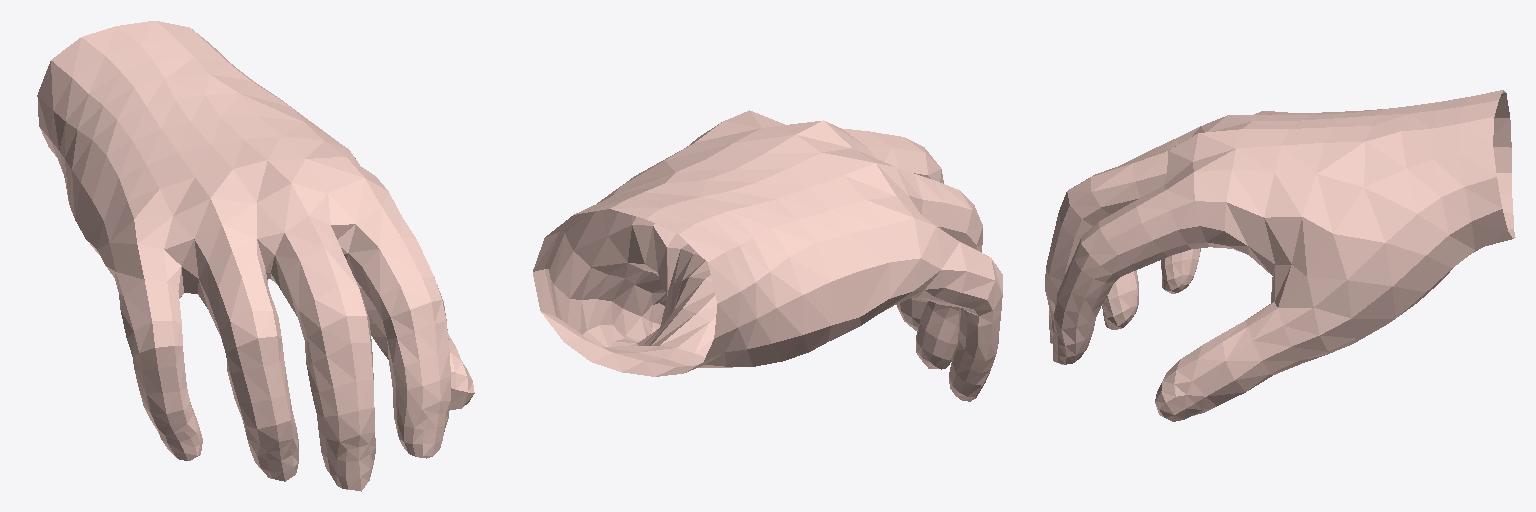
URDF robot description (mano_urdf):
?<?xml version="1.0" encoding="utf-8"?>
<robot name="mano_urdf">
  <material name="Default">
    <color rgba="0.9725 0.8392 0.8078 0" />
  </material>
  <link name="m_avg_R_Wrist">
    <visual>
      <geometry>
        <mesh filename="package://meshes/m_avg_R_Wrist.stl" scale="1 1 1" />
      </geometry>
      <material name="Default">
        <color rgba="0.9725 0.8392 0.8078 0" />
      </material>
    </visual>
    <collision>
      <geometry>
        <mesh filename="package://meshes/m_avg_R_Wrist.stl" scale="1 1 1" />
      </geometry>
    </collision>
  </link>
  <link name="m_avg_rindex0">
    <visual>
      <geometry>
        <mesh filename="package://meshes/m_avg_rindex0.stl" scale="1 1 1" />
      </geometry>
      <material name="Default">
        <color rgba="0.9725 0.8392 0.8078 0" />
      </material>
    </visual>
    <collision>
      <geometry>
        <mesh filename="package://meshes/m_avg_rindex0.stl" scale="1 1 1" />
      </geometry>
    </collision>
  </link>
  <link name="m_avg_rindex1">
    <visual>
      <geometry>
        <mesh filename="package://meshes/m_avg_rindex1.stl" scale="1 1 1" />
      </geometry>
      <material name="Default">
        <color rgba="0.9725 0.8392 0.8078 0" />
      </material>
    </visual>
    <collision>
      <geometry>
        <mesh filename="package://meshes/m_avg_rindex1.stl" scale="1 1 1" />
      </geometry>
    </collision>
  </link>
  <link name="m_avg_rindex2">
    <visual>
      <geometry>
        <mesh filename="package://meshes/m_avg_rindex2.stl" scale="1 1 1" />
      </geometry>
      <material name="Default">
        <color rgba="0.9725 0.8392 0.8078 0" />
      </material>
    </visual>
    <collision>
      <geometry>
        <mesh filename="package://meshes/m_avg_rindex2.stl" scale="1 1 1" />
      </geometry>
    </collision>
  </link>
  <link name="m_avg_rmiddle0">
    <visual>
      <geometry>
        <mesh filename="package://meshes/m_avg_rmiddle0.stl" scale="1 1 1" />
      </geometry>
      <material name="Default">
        <color rgba="0.9725 0.8392 0.8078 0" />
      </material>
    </visual>
    <collision>
      <geometry>
        <mesh filename="package://meshes/m_avg_rmiddle0.stl" scale="1 1 1" />
      </geometry>
    </collision>
  </link>
  <link name="m_avg_rmiddle1">
    <visual>
      <geometry>
        <mesh filename="package://meshes/m_avg_rmiddle1.stl" scale="1 1 1" />
      </geometry>
      <material name="Default">
        <color rgba="0.9725 0.8392 0.8078 0" />
      </material>
    </visual>
    <collision>
      <geometry>
        <mesh filename="package://meshes/m_avg_rmiddle1.stl" scale="1 1 1" />
      </geometry>
    </collision>
  </link>
  <link name="m_avg_rmiddle2">
    <visual>
      <geometry>
        <mesh filename="package://meshes/m_avg_rmiddle2.stl" scale="1 1 1" />
      </geometry>
      <material name="Default">
        <color rgba="0.9725 0.8392 0.8078 0" />
      </material>
    </visual>
    <collision>
      <geometry>
        <mesh filename="package://meshes/m_avg_rmiddle2.stl" scale="1 1 1" />
      </geometry>
    </collision>
  </link>
  <link name="m_avg_rpinky0">
    <visual>
      <geometry>
        <mesh filename="package://meshes/m_avg_rpinky0.stl" scale="1 1 1" />
      </geometry>
      <material name="Default">
        <color rgba="0.9725 0.8392 0.8078 0" />
      </material>
    </visual>
    <collision>
      <geometry>
        <mesh filename="package://meshes/m_avg_rpinky0.stl" scale="1 1 1" />
      </geometry>
    </collision>
  </link>
  <link name="m_avg_rpinky1">
    <visual>
      <geometry>
        <mesh filename="package://meshes/m_avg_rpinky1.stl" scale="1 1 1" />
      </geometry>
      <material name="Default">
        <color rgba="0.9725 0.8392 0.8078 0" />
      </material>
    </visual>
    <collision>
      <geometry>
        <mesh filename="package://meshes/m_avg_rpinky1.stl" scale="1 1 1" />
      </geometry>
    </collision>
  </link>
  <link name="m_avg_rpinky2">
    <visual>
      <geometry>
        <mesh filename="package://meshes/m_avg_rpinky2.stl" scale="1 1 1" />
      </geometry>
      <material name="Default">
        <color rgba="0.9725 0.8392 0.8078 0" />
      </material>
    </visual>
    <collision>
      <geometry>
        <mesh filename="package://meshes/m_avg_rpinky2.stl" scale="1 1 1" />
      </geometry>
    </collision>
  </link>
  <link name="m_avg_rring0">
    <visual>
      <geometry>
        <mesh filename="package://meshes/m_avg_rring0.stl" scale="1 1 1" />
      </geometry>
      <material name="Default">
        <color rgba="0.9725 0.8392 0.8078 0" />
      </material>
    </visual>
    <collision>
      <geometry>
        <mesh filename="package://meshes/m_avg_rring0.stl" scale="1 1 1" />
      </geometry>
    </collision>
  </link>
  <link name="m_avg_rring1">
    <visual>
      <geometry>
        <mesh filename="package://meshes/m_avg_rring1.stl" scale="1 1 1" />
      </geometry>
      <material name="Default">
        <color rgba="0.9725 0.8392 0.8078 0" />
      </material>
    </visual>
    <collision>
      <geometry>
        <mesh filename="package://meshes/m_avg_rring1.stl" scale="1 1 1" />
      </geometry>
    </collision>
  </link>
  <link name="m_avg_rring2">
    <visual>
      <geometry>
        <mesh filename="package://meshes/m_avg_rring2.stl" scale="1 1 1" />
      </geometry>
      <material name="Default">
        <color rgba="0.9725 0.8392 0.8078 0" />
      </material>
    </visual>
    <collision>
      <geometry>
        <mesh filename="package://meshes/m_avg_rring2.stl" scale="1 1 1" />
      </geometry>
    </collision>
  </link>
  <link name="m_avg_rthumb0">
    <visual>
      <geometry>
        <mesh filename="package://meshes/m_avg_rthumb0.stl" scale="1 1 1" />
      </geometry>
      <material name="Default">
        <color rgba="0.9725 0.8392 0.8078 0" />
      </material>
    </visual>
    <collision>
      <geometry>
        <mesh filename="package://meshes/m_avg_rthumb0.stl" scale="1 1 1" />
      </geometry>
    </collision>
  </link>
  <link name="m_avg_rthumb1">
    <visual>
      <geometry>
        <mesh filename="package://meshes/m_avg_rthumb1.stl" scale="1 1 1" />
      </geometry>
      <material name="Default">
        <color rgba="0.9725 0.8392 0.8078 0" />
      </material>
    </visual>
    <collision>
      <geometry>
        <mesh filename="package://meshes/m_avg_rthumb1.stl" scale="1 1 1" />
      </geometry>
    </collision>
  </link>
  <link name="m_avg_rthumb2">
    <visual>
      <geometry>
        <mesh filename="package://meshes/m_avg_rthumb2.stl" scale="1 1 1" />
      </geometry>
      <material name="Default">
        <color rgba="0.9725 0.8392 0.8078 0" />
      </material>
    </visual>
    <collision>
      <geometry>
        <mesh filename="package://meshes/m_avg_rthumb2.stl" scale="1 1 1" />
      </geometry>
    </collision>
  </link>
  <joint name="m_avg_R_Wrist_m_avg_rindex0_joint" type="fixed">
    <origin xyz="0.025301 -0.102809 -0.012384" />
    <parent link="m_avg_R_Wrist" />
    <child link="m_avg_rindex0" />
  </joint>
  <joint name="m_avg_rindex0_m_avg_rindex1_joint" type="fixed">
    <origin xyz="0.001124 -0.027963 -0.011452" />
    <parent link="m_avg_rindex0" />
    <child link="m_avg_rindex1" />
  </joint>
  <joint name="m_avg_rindex1_m_avg_rindex2_joint" type="fixed">
    <origin xyz="-0.002104 -0.010287 -0.018698" />
    <parent link="m_avg_rindex1" />
    <child link="m_avg_rindex2" />
  </joint>
  <joint name="m_avg_R_Wrist_m_avg_rmiddle0_joint" type="fixed">
    <origin xyz="0.0006 -0.111371 -0.010032" />
    <parent link="m_avg_R_Wrist" />
    <child link="m_avg_rmiddle0" />
  </joint>
  <joint name="m_avg_rmiddle0_m_avg_rmiddle1_joint" type="fixed">
    <origin xyz="-0.004007 -0.02478 -0.013997" />
    <parent link="m_avg_rmiddle0" />
    <child link="m_avg_rmiddle1" />
  </joint>
  <joint name="m_avg_rmiddle1_m_avg_rmiddle2_joint" type="fixed">
    <origin xyz="-0.001247 -0.007788 -0.020519" />
    <parent link="m_avg_rmiddle1" />
    <child link="m_avg_rmiddle2" />
  </joint>
  <joint name="m_avg_R_Wrist_m_avg_rpinky0_joint" type="fixed">
    <origin xyz="-0.040315 -0.086954 -0.019786" />
    <parent link="m_avg_R_Wrist" />
    <child link="m_avg_rpinky0" />
  </joint>
  <joint name="m_avg_rpinky0_m_avg_rpinky1_joint" type="fixed">
    <origin xyz="-0.005514 -0.013287 -0.012501" />
    <parent link="m_avg_rpinky0" />
    <child link="m_avg_rpinky1" />
  </joint>
  <joint name="m_avg_rpinky1_m_avg_rpinky2_joint" type="fixed">
    <origin xyz="0.000954 -0.004849 -0.016267" />
    <parent link="m_avg_rpinky1" />
    <child link="m_avg_rpinky2" />
  </joint>
  <joint name="m_avg_R_Wrist_m_avg_rring0_joint" type="fixed">
    <origin xyz="-0.023867 -0.10021 -0.013006" />
    <parent link="m_avg_R_Wrist" />
    <child link="m_avg_rring0" />
  </joint>
  <joint name="m_avg_rring0_m_avg_rring1_joint" type="fixed">
    <origin xyz="-0.001146 -0.022404 -0.013868" />
    <parent link="m_avg_rring0" />
    <child link="m_avg_rring1" />
  </joint>
  <joint name="m_avg_rring1_m_avg_rring2_joint" type="fixed">
    <origin xyz="0.001506 -0.005525 -0.021117" />
    <parent link="m_avg_rring1" />
    <child link="m_avg_rring2" />
  </joint>
  <joint name="m_avg_R_Wrist_m_avg_rthumb0_joint" type="fixed">
    <origin xyz="0.02754 -0.040965 -0.026681" />
    <parent link="m_avg_R_Wrist" />
    <child link="m_avg_rthumb0" />
  </joint>
  <joint name="m_avg_rthumb0_m_avg_rthumb1_joint" type="fixed">
    <origin xyz="0.018149 -0.0216 -0.011903" />
    <parent link="m_avg_rthumb0" />
    <child link="m_avg_rthumb1" />
  </joint>
  <joint name="m_avg_rthumb1_m_avg_rthumb2_joint" type="fixed">
    <origin xyz="0.003384 -0.023355 -0.014209" />
    <parent link="m_avg_rthumb1" />
    <child link="m_avg_rthumb2" />
  </joint>
</robot>

--- What the picture shows (computed from the rendered views, not written in the file) ---
Views: 3 orthographic renders of the robot side by side, from view 1: azimuth 30°, elevation 25°; view 2: azimuth 150°, elevation 25°; view 3: azimuth 270°, elevation 25°.
Robot: mano_urdf — 16 links, 15 joints (15 fixed); root link m_avg_R_Wrist; default pose: every joint at zero.
Visible links, largest first — view 1: m_avg_R_Wrist, m_avg_rmiddle0, m_avg_rindex0, m_avg_rpinky0, m_avg_rmiddle1, m_avg_rring0, m_avg_rring1, m_avg_rindex1, m_avg_rmiddle2, m_avg_rindex2, m_avg_rpinky1, m_avg_rring2 (+2 smaller); view 2: m_avg_R_Wrist, m_avg_rthumb1, m_avg_rthumb0, m_avg_rpinky0, m_avg_rring0, m_avg_rring2, m_avg_rmiddle0, m_avg_rthumb2, m_avg_rpinky1, m_avg_rpinky2, m_avg_rmiddle2; view 3: m_avg_R_Wrist, m_avg_rthumb0, m_avg_rthumb1, m_avg_rindex0, m_avg_rthumb2, m_avg_rmiddle0, m_avg_rindex1, m_avg_rindex2, m_avg_rmiddle1, m_avg_rring2, m_avg_rpinky2, m_avg_rmiddle2.
Boxes of the visible links, x1=… form: m_avg_R_Wrist: x1=37, y1=21, x2=399, y2=293; m_avg_rmiddle0: x1=271, y1=216, x2=368, y2=339; m_avg_rindex0: x1=346, y1=208, x2=443, y2=320; m_avg_rpinky0: x1=116, y1=244, x2=183, y2=355; m_avg_rmiddle1: x1=305, y1=316, x2=374, y2=416; m_avg_rring0: x1=198, y1=251, x2=281, y2=352; m_avg_rring1: x1=226, y1=336, x2=292, y2=428; m_avg_rindex1: x1=383, y1=300, x2=450, y2=388; m_avg_rmiddle2: x1=317, y1=408, x2=375, y2=491; m_avg_rindex2: x1=391, y1=377, x2=450, y2=458; m_avg_rpinky1: x1=132, y1=346, x2=189, y2=413; m_avg_rring2: x1=242, y1=413, x2=298, y2=481; m_avg_R_Wrist: x1=533, y1=110, x2=944, y2=376; m_avg_rthumb1: x1=582, y1=225, x2=667, y2=346; m_avg_rthumb0: x1=554, y1=209, x2=694, y2=346; m_avg_rpinky0: x1=919, y1=226, x2=1002, y2=315; m_avg_rring0: x1=915, y1=174, x2=982, y2=247; m_avg_rring2: x1=916, y1=301, x2=958, y2=369; m_avg_rmiddle0: x1=843, y1=129, x2=940, y2=181; m_avg_rthumb2: x1=623, y1=273, x2=666, y2=341; m_avg_rpinky1: x1=959, y1=295, x2=1002, y2=360; m_avg_rpinky2: x1=949, y1=333, x2=995, y2=401; m_avg_rmiddle2: x1=896, y1=297, x2=927, y2=330; m_avg_R_Wrist: x1=1164, y1=90, x2=1515, y2=317; m_avg_rthumb0: x1=1248, y1=217, x2=1395, y2=354; m_avg_rthumb1: x1=1223, y1=265, x2=1327, y2=391; m_avg_rindex0: x1=1081, y1=186, x2=1190, y2=275; m_avg_rthumb2: x1=1155, y1=333, x2=1245, y2=421; m_avg_rmiddle0: x1=1067, y1=150, x2=1168, y2=225; m_avg_rindex1: x1=1057, y1=239, x2=1121, y2=312; m_avg_rindex2: x1=1053, y1=298, x2=1100, y2=364; m_avg_rmiddle1: x1=1046, y1=192, x2=1092, y2=279; m_avg_rring2: x1=1102, y1=270, x2=1138, y2=329; m_avg_rpinky2: x1=1161, y1=248, x2=1200, y2=293; m_avg_rmiddle2: x1=1045, y1=269, x2=1062, y2=343.
Size in the robot's own frame: 0.1158 by 0.1647 by 0.0982 metres.
16 mesh visuals loaded from 16 distinct referenced files (16 ASCII STL).
